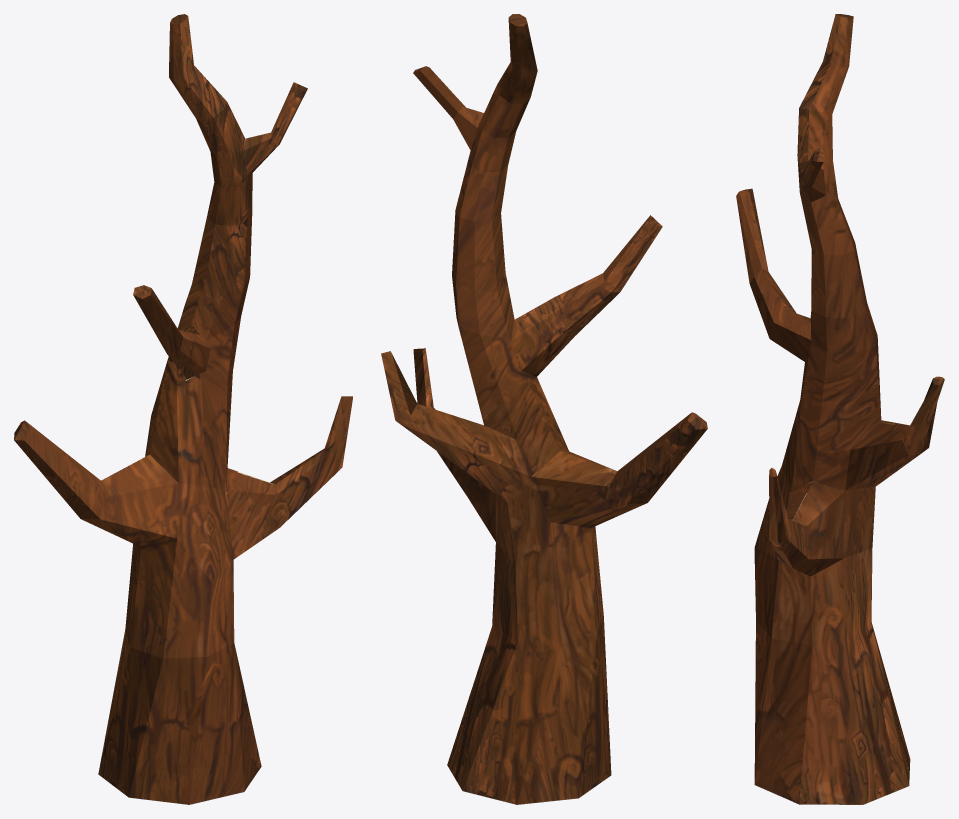
File: assets_same_uvset_arbol_tronco.fbx
3 views of the same model, side by side, from view 1: azimuth 30°, elevation 25°; view 2: azimuth 150°, elevation 25°; view 3: azimuth 270°, elevation 25° (orthographic).
Parts seen in each view (by area): view 1: assets_same_uvset:arbol_tronco; view 2: assets_same_uvset:arbol_tronco; view 3: assets_same_uvset:arbol_tronco.
Part boxes in pixels (x1=…): assets_same_uvset:arbol_tronco: x1=14, y1=14, x2=352, y2=804; assets_same_uvset:arbol_tronco: x1=381, y1=14, x2=707, y2=804; assets_same_uvset:arbol_tronco: x1=736, y1=14, x2=944, y2=804.
Bounding box in the file's own units: 12.34 × 28.02 × 6.96.
Materials: 1 (1 with a texture image).
